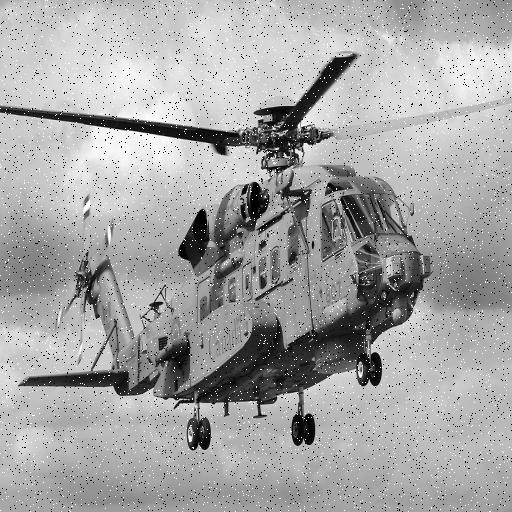helicopter: (1, 32, 438, 457)
